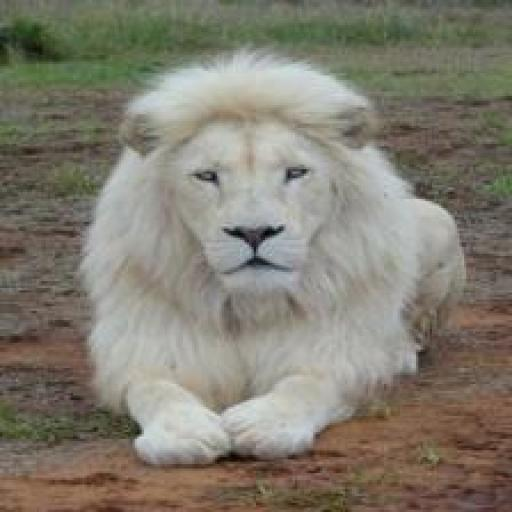lion: (87, 43, 427, 344)
